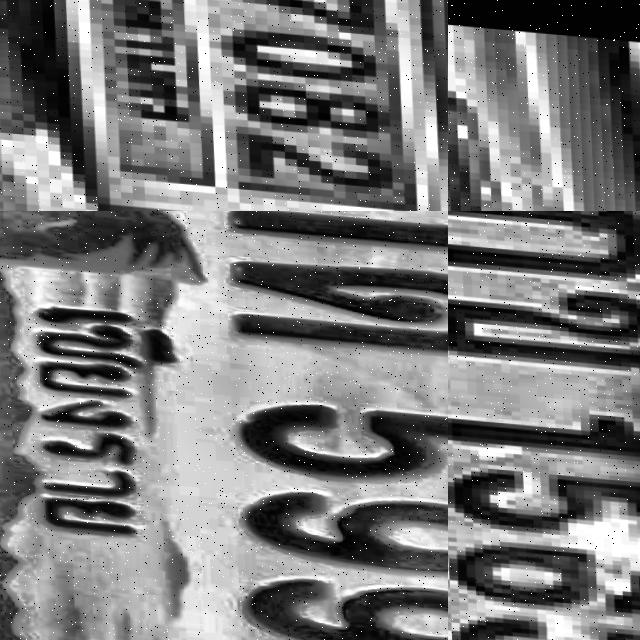license-plate: (0, 211, 448, 640), (0, 0, 448, 211), (448, 211, 640, 640), (448, 0, 640, 211)
